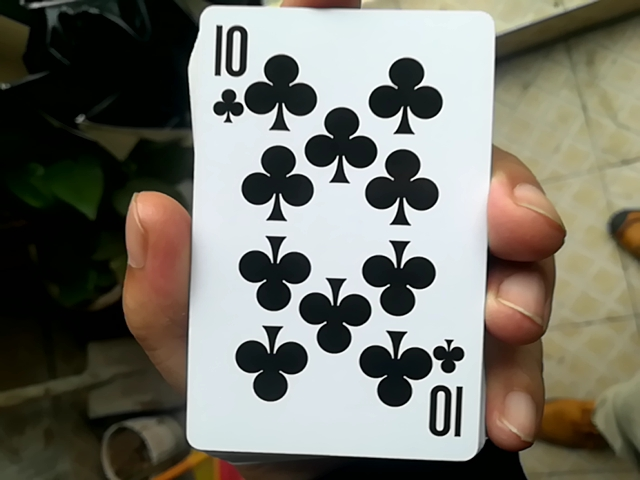mh 10: (177, 2, 485, 449)
